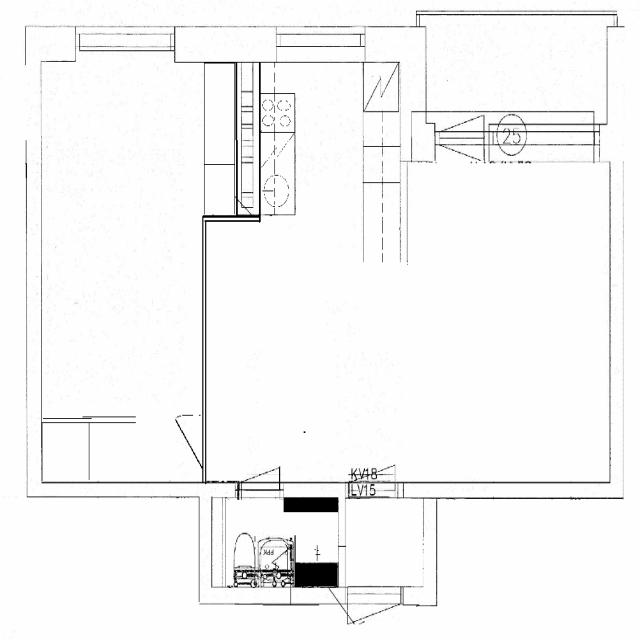door: (439, 47, 484, 162), (439, 111, 484, 225), (349, 416, 395, 497), (241, 428, 280, 498), (166, 414, 206, 468)
